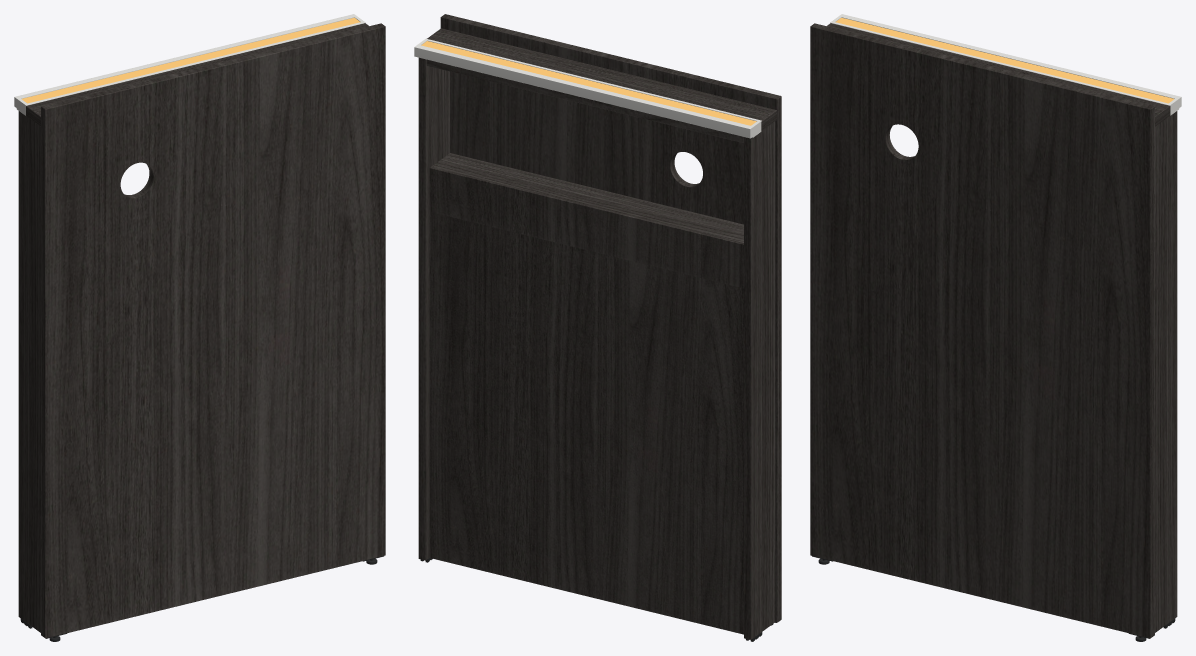
File: DFIB00302.glb
3 renders of one model, left to right at view 1: azimuth 30°, elevation 25°; view 2: azimuth 150°, elevation 25°; view 3: azimuth 330°, elevation 25°, orthographic.
Visible parts, largest first — view 1: BP_DFIB00302; view 2: BP_DFIB00302; view 3: BP_DFIB00302.
Part boxes in pixels (left/top/right/bottom): BP_DFIB00302: left=14, top=14, right=385, bottom=641; BP_DFIB00302: left=414, top=14, right=781, bottom=641; BP_DFIB00302: left=810, top=14, right=1181, bottom=641.
Bounding box in the file's own units: 0.8 × 1.2 × 0.13.
4 materials, 1 textured.
